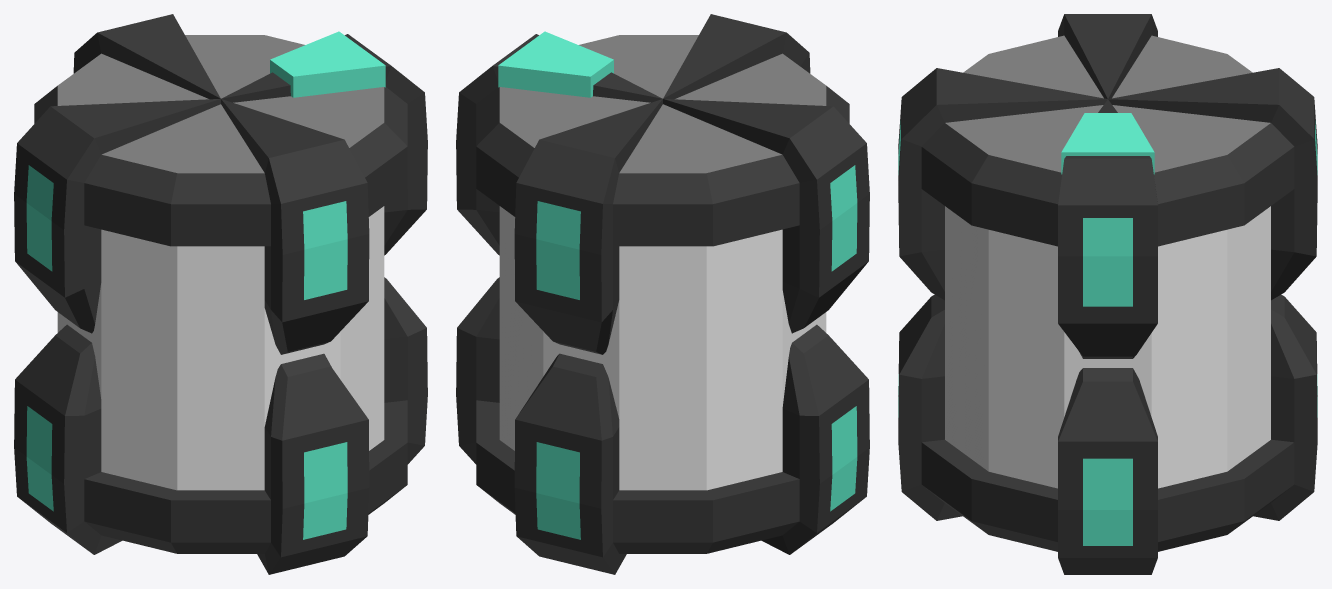
Rendered from Mshifter.obj.
3 views of the same model, side by side, from view 1: azimuth 30°, elevation 25°; view 2: azimuth 150°, elevation 25°; view 3: azimuth 270°, elevation 25° (orthographic).
Parts seen in each view (by area): view 1: cylinder, top, glowingpart, cuboid; view 2: cylinder, top, glowingpart, cuboid; view 3: cylinder, top, glowingpart, cuboid.
Boxes of the visible parts, bbox=[...] form: cylinder: bbox=[14, 14, 427, 574]; top: bbox=[57, 35, 384, 173]; glowingpart: bbox=[26, 165, 347, 539]; cuboid: bbox=[270, 31, 385, 97]; cylinder: bbox=[456, 14, 869, 574]; top: bbox=[499, 35, 826, 173]; glowingpart: bbox=[536, 165, 857, 539]; cuboid: bbox=[498, 31, 613, 97]; cylinder: bbox=[898, 14, 1317, 574]; top: bbox=[945, 35, 1270, 172]; glowingpart: bbox=[898, 120, 1317, 545]; cuboid: bbox=[1061, 113, 1154, 174].
Size of the model in its own units: 1.12 by 1.24 by 1.12.
